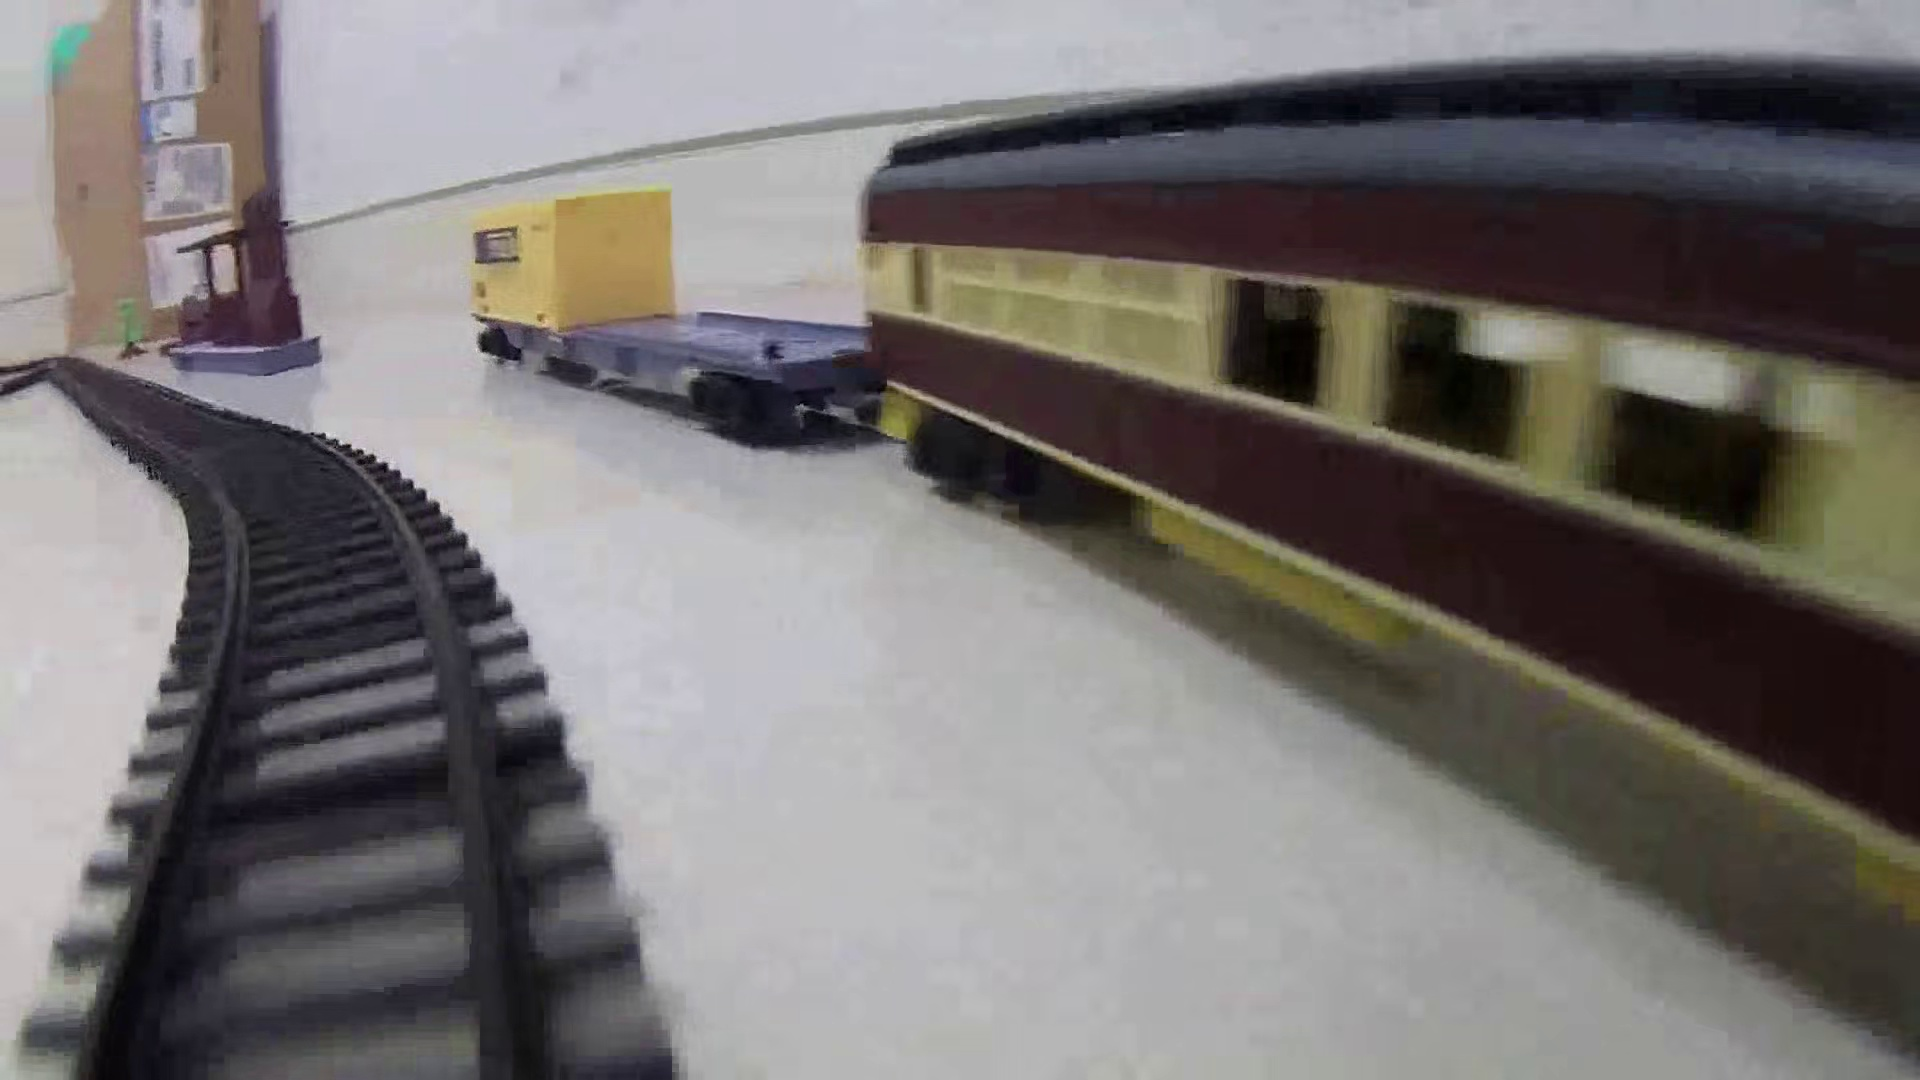tree: (113, 294, 151, 363)
